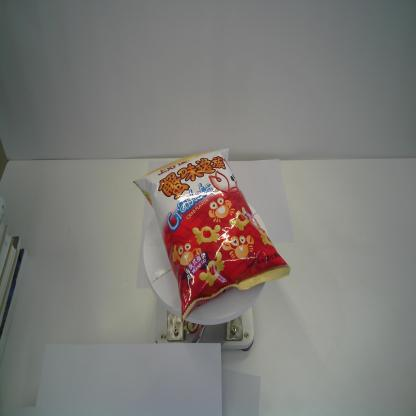Puffed Food: (133, 147, 290, 324)
